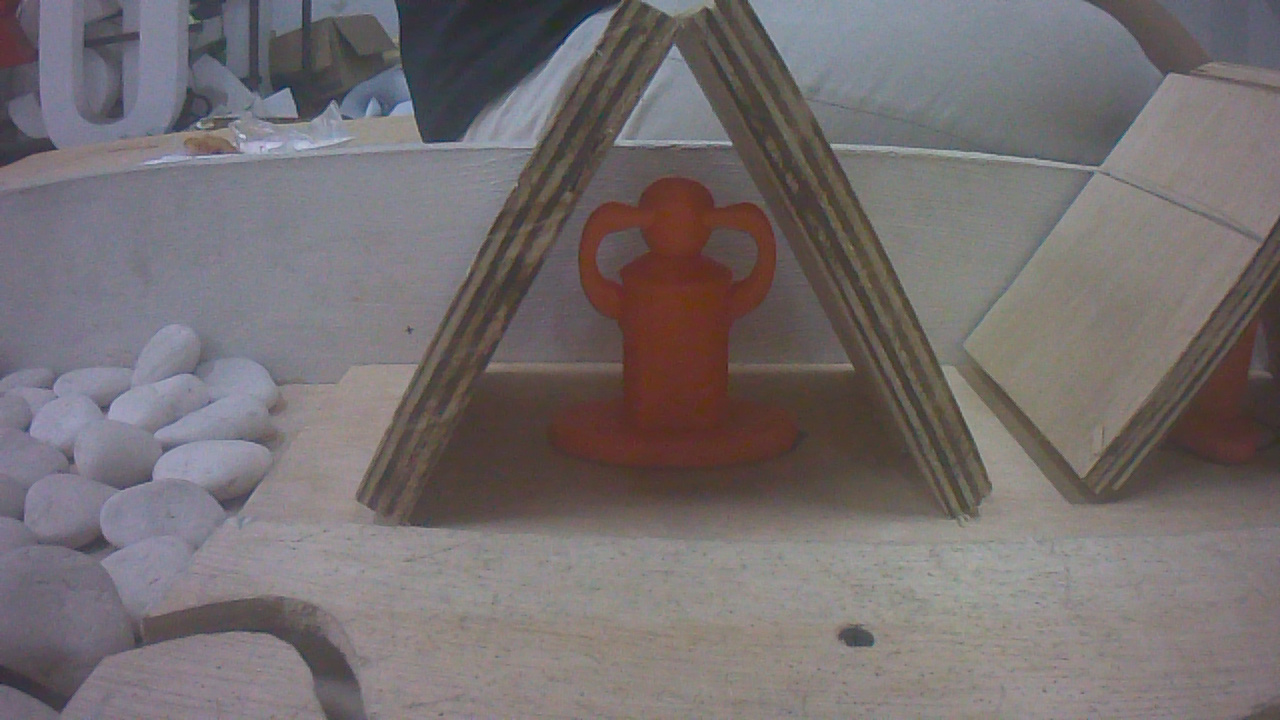real: (557, 159, 783, 459)
